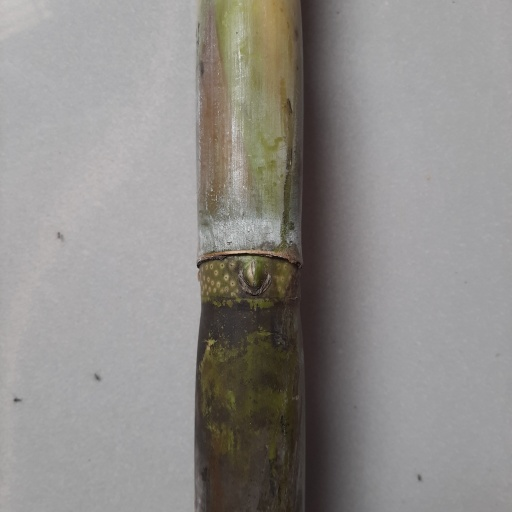Bud: (237, 258, 269, 293)
